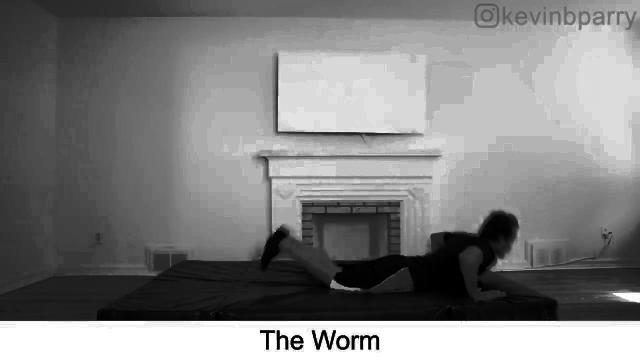jatuh: (232, 209, 524, 301)
